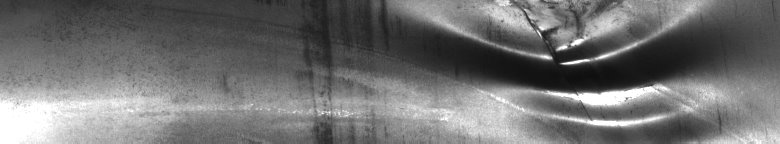ke: (307, 4, 721, 136)
